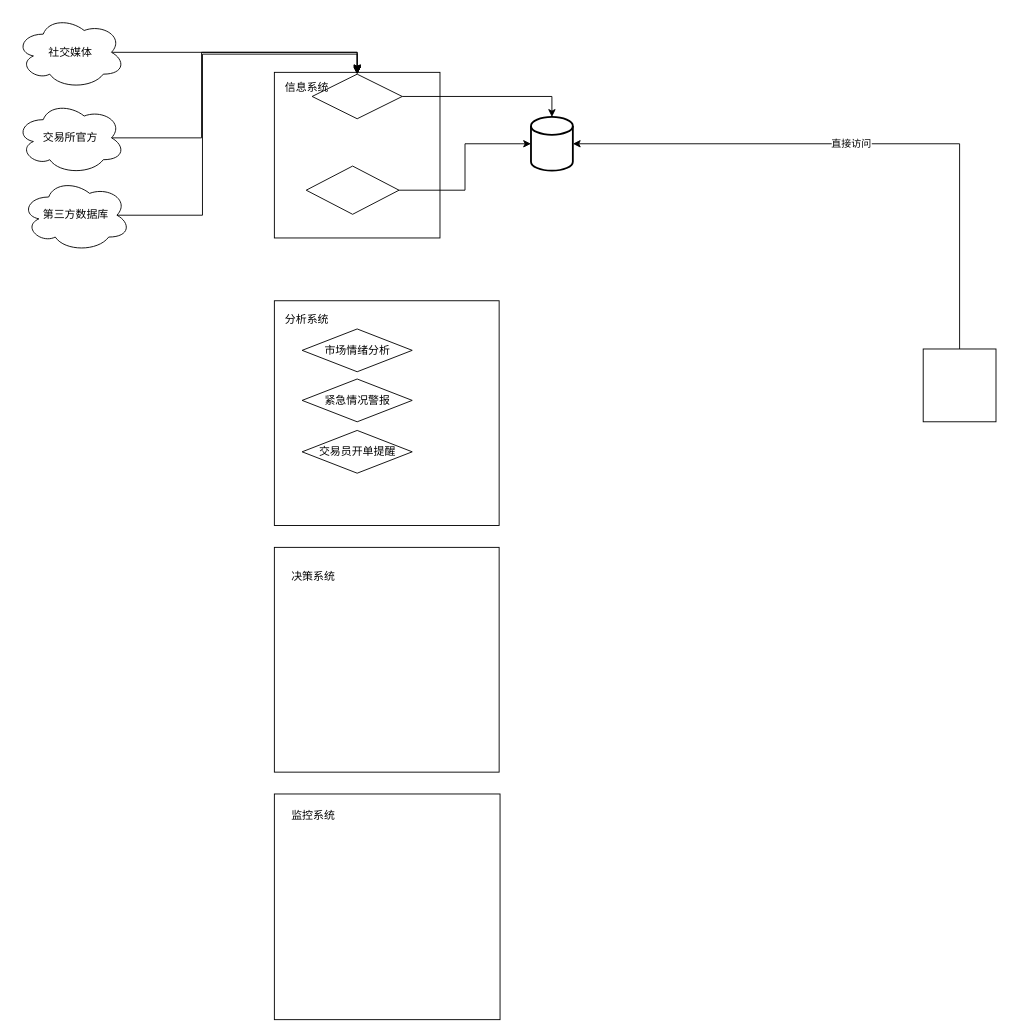
This 1012x1036 diagram has some shape labels left out. The centre of each missing label's shape, as x and y in pixels:
ue: [959,385]
收集: [356,96]
筛选整理: [352,189]
